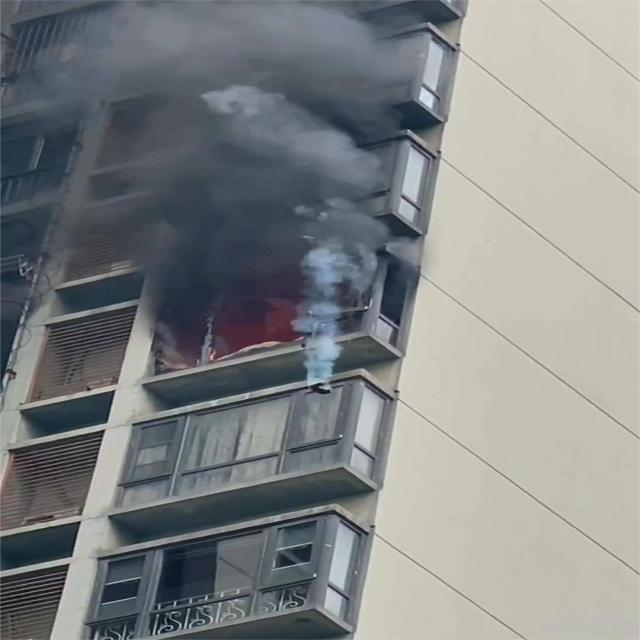Smoke: (75, 0, 379, 389)
